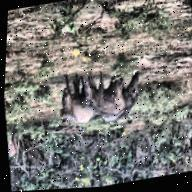boar: (74, 70, 132, 127), (106, 68, 151, 129), (54, 73, 96, 129)
